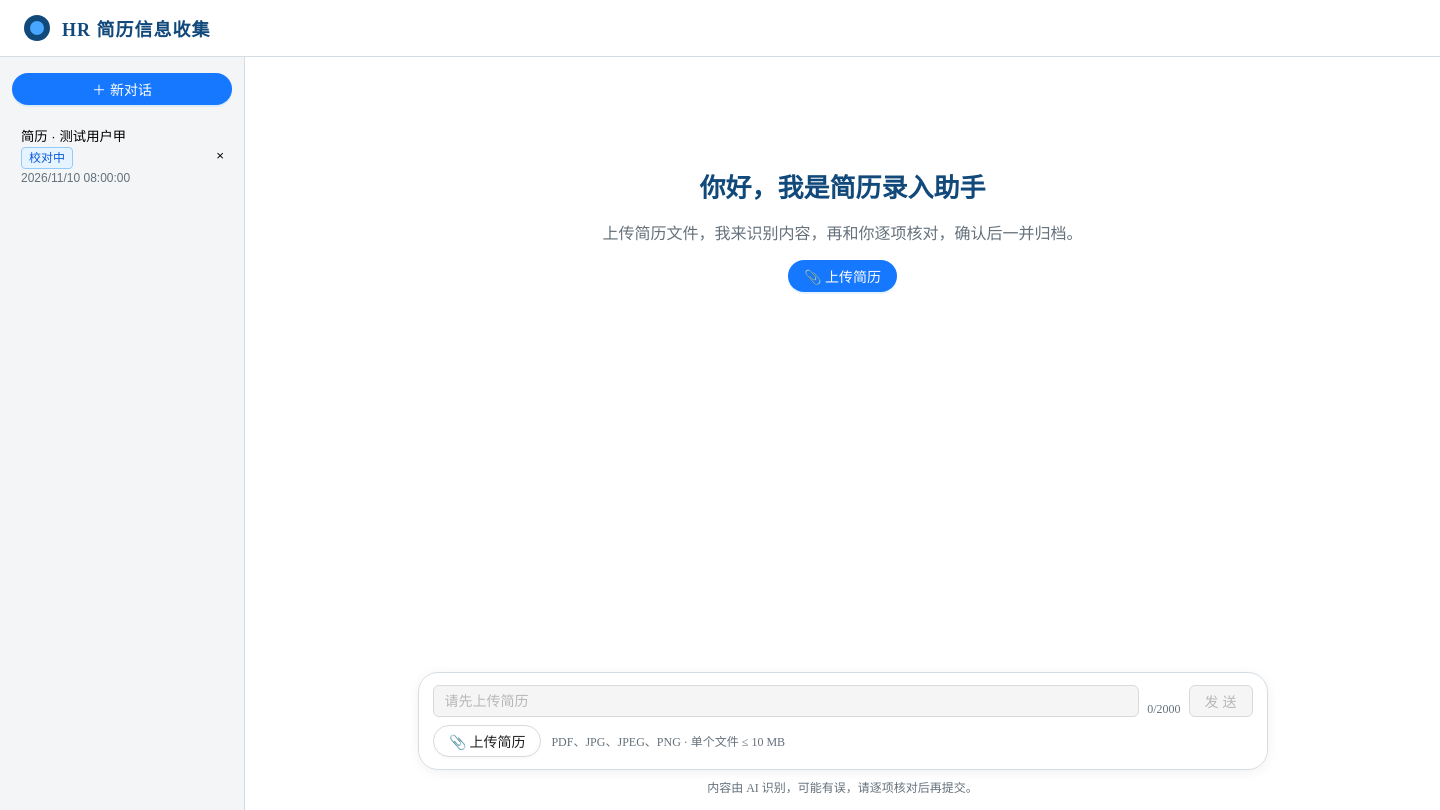
Test: chat: main path (REQ-FE-07.1-07.3) › renders message text as plain text, not as HTML
This screenshot has width=1440, height=810.
Click the button "简历 · 测试用户甲 校对中 2026/11/10 08:00:00" at coordinates (108, 156), box [12,117,204,194]
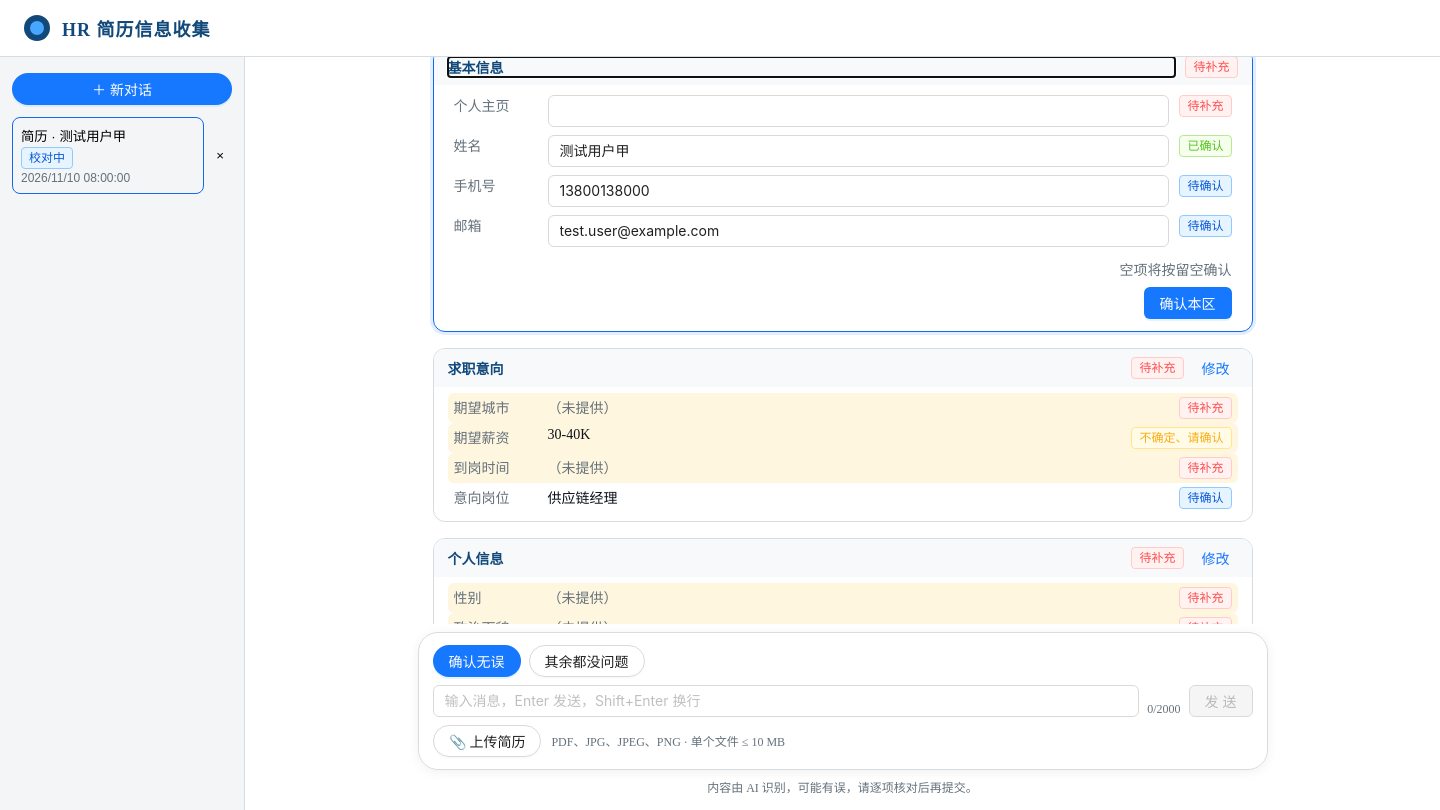
Expected: the heading "基本信息" is shown, [448,61,504,76]
Type "你好" into the text box named "对话输入" at coordinates (786, 701), box [432,685,1139,717]
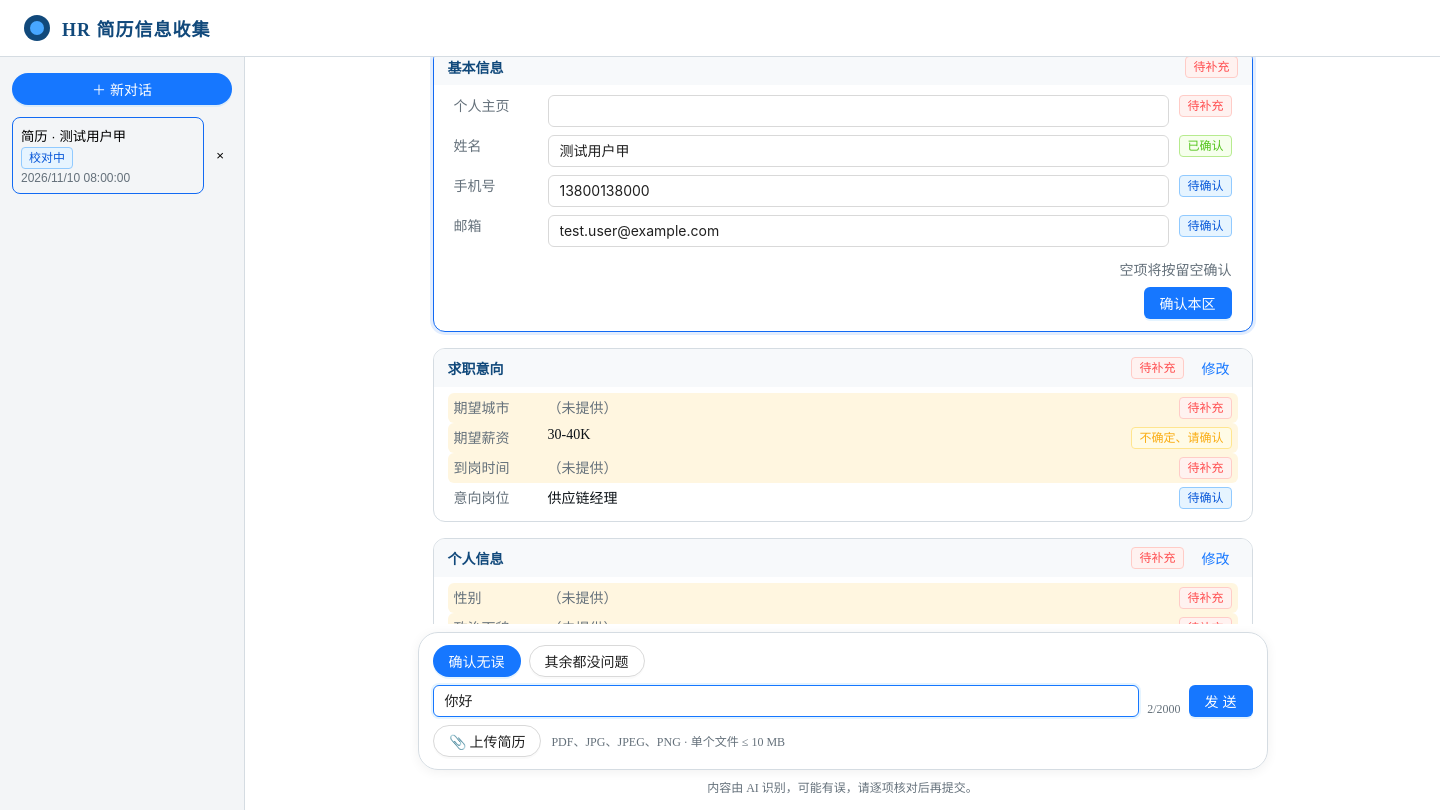
Click the button "发 送" at coordinates (1221, 701), box [1189,685,1252,717]
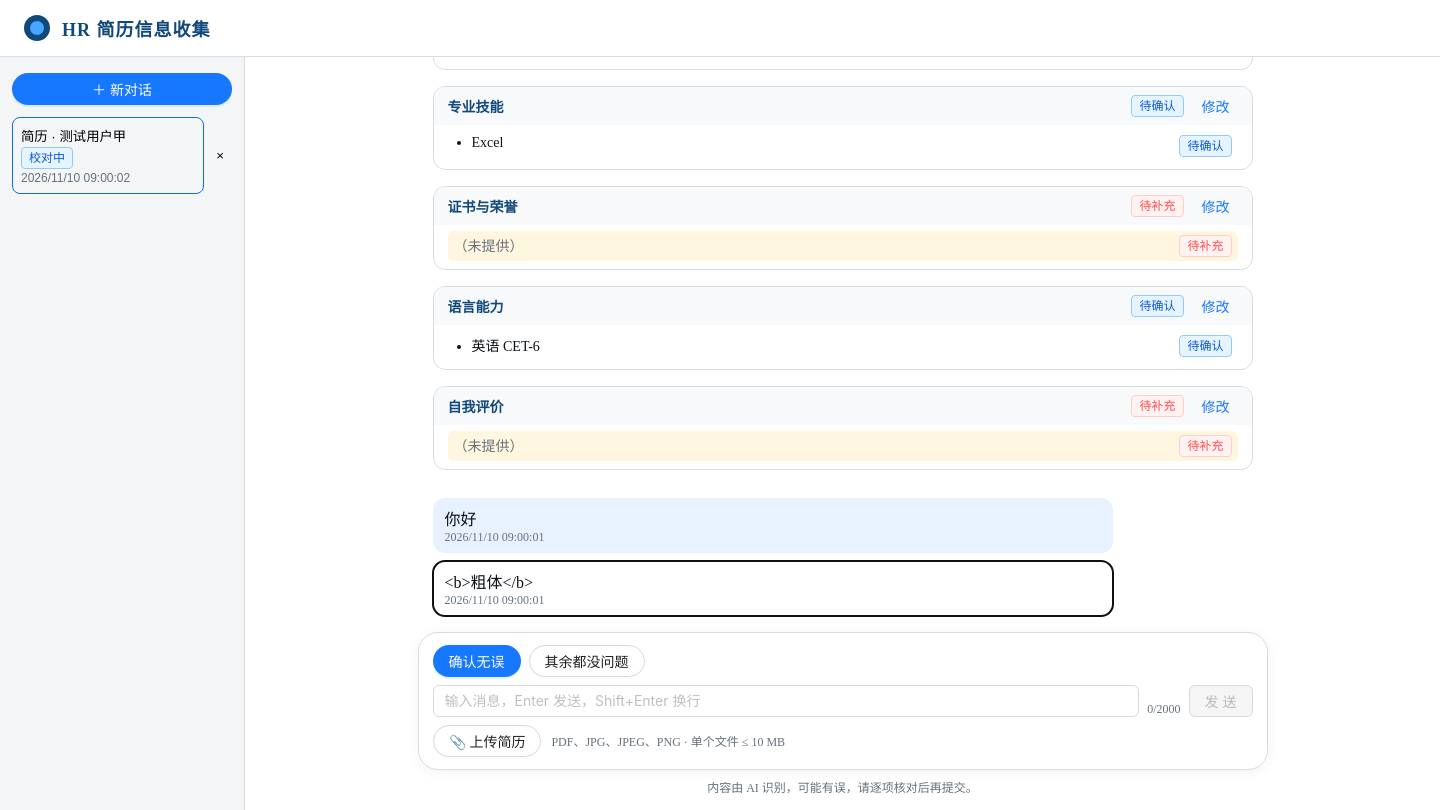
Expected: the text "<b>粗体</b>" is shown, [444,574,533,591]
